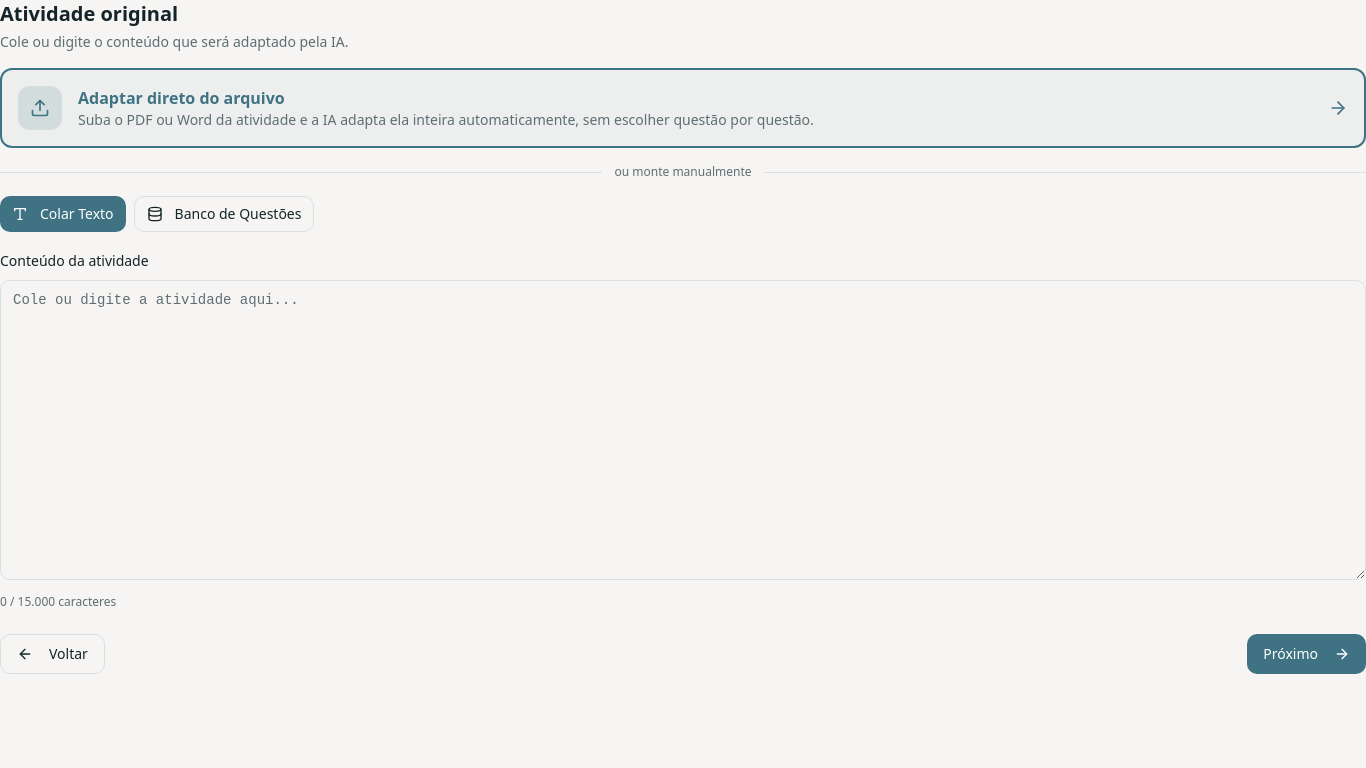
Test: StepActivityInput — Banco de Questões tab › shows questions fetched from the bank inside the modal
What coordinates should you click on to do the following:
click the button "Banco de Questões"
I would click on:
 (224, 214)
Its box is [134,196,314,232].
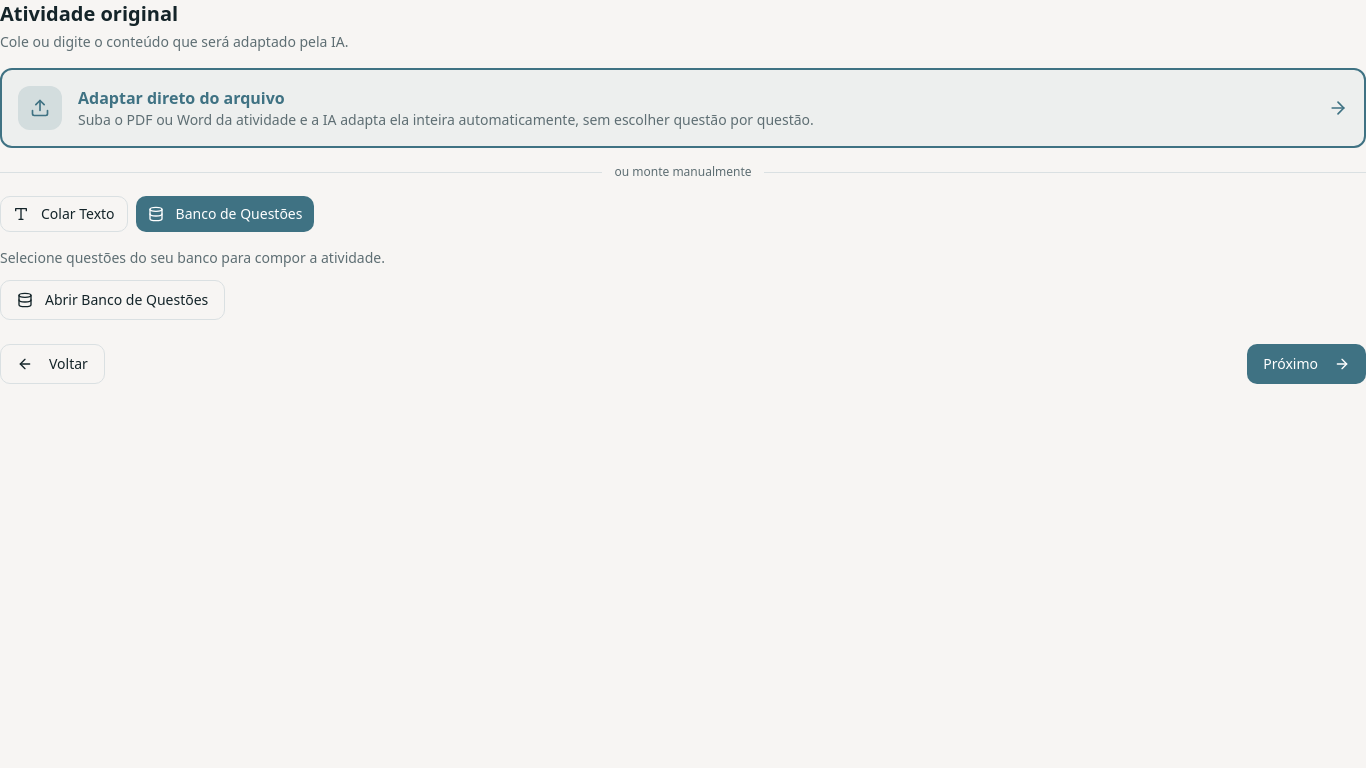
What coordinates should you click on to do the following:
click the button "Abrir Banco de Questões"
I would click on:
 (113, 300)
Its box is [0,280,225,320].
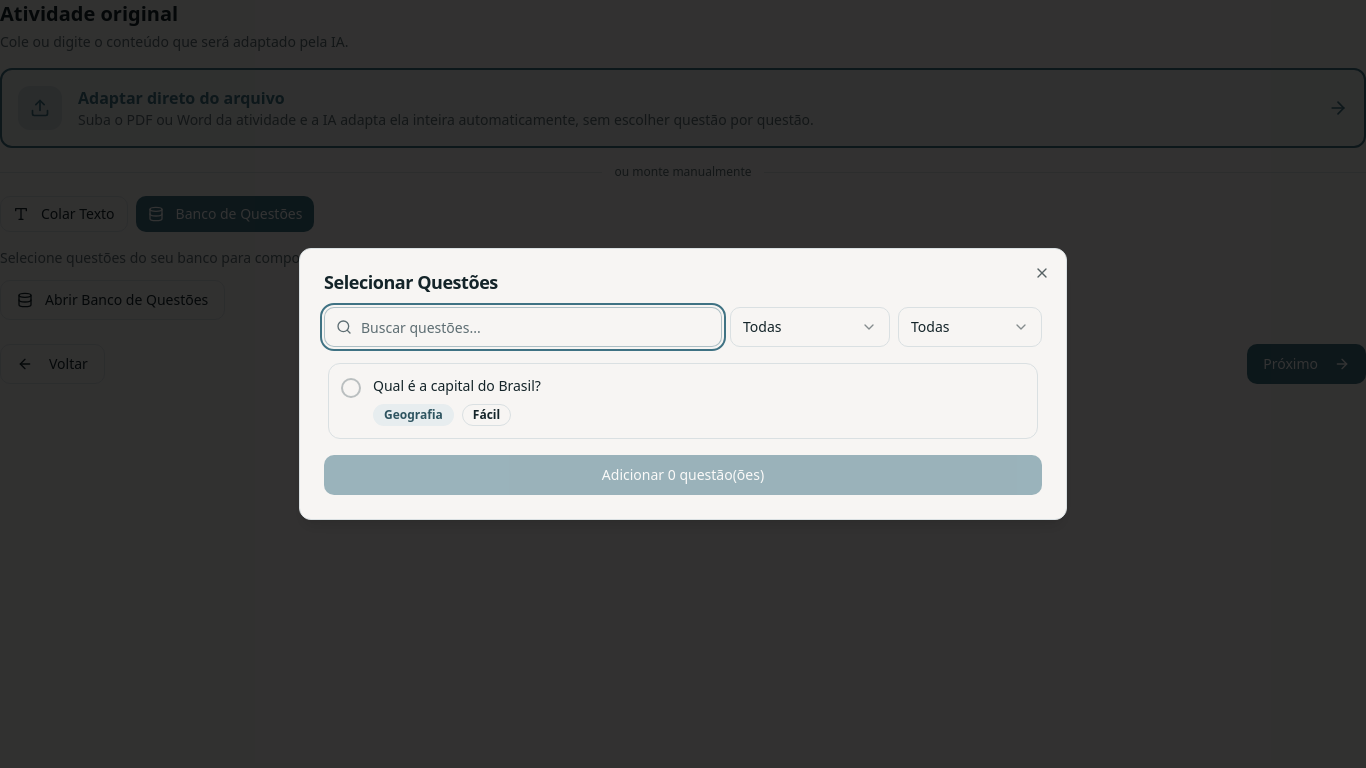
Expected: the text "Qual é a capital do Brasil?" is shown, [373,376,541,395]
